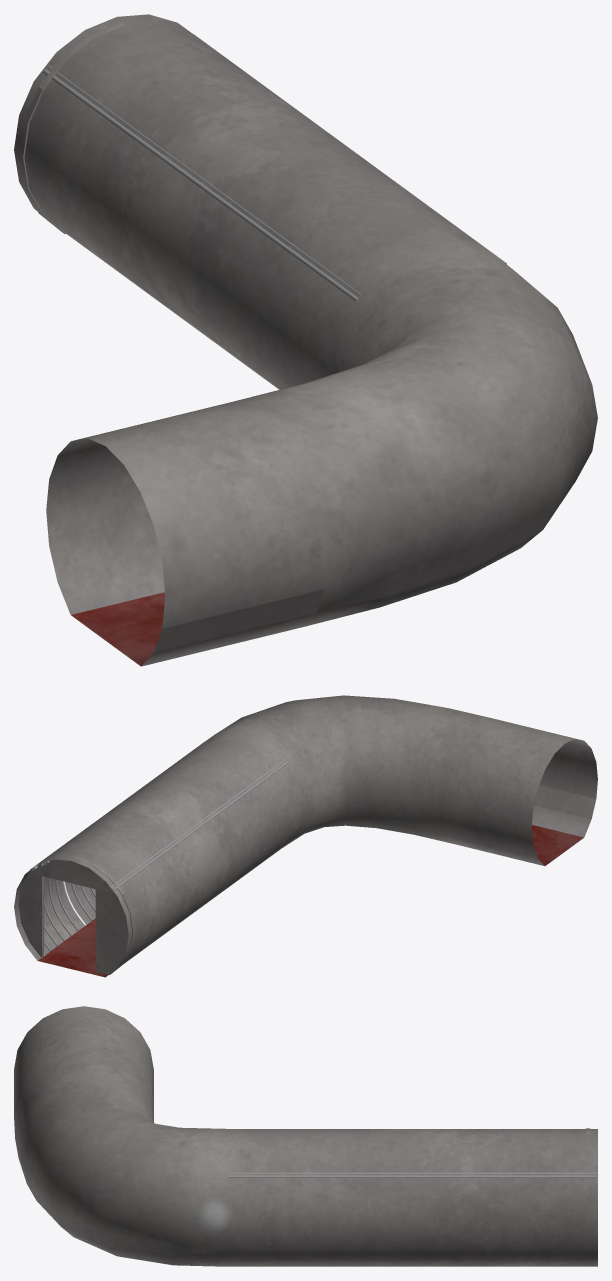
Rendered from corridor.fbx.
The picture shows the model from 3 angles, top to bottom: view 1: azimuth 30°, elevation 25°; view 2: azimuth 150°, elevation 25°; view 3: azimuth 270°, elevation 25°; orthographic projection. The views are drawn at different scales.
Visible parts, largest first — view 1: __pCylinder66, __pCylinder81; view 2: __pCylinder66, __polySurface13, __polySurface11, __polySurface6, __pCylinder81; view 3: __pCylinder66, __pCylinder79, __pCylinder3.
Part boxes in pixels (x1,y1,x2,y2): __pCylinder66: (14,14,597,666); __pCylinder81: (43,65,361,301); __pCylinder66: (14,695,597,977); __polySurface13: (95,889,135,974); __polySurface11: (18,863,44,957); __polySurface6: (40,856,116,893); __pCylinder81: (96,759,288,891); __pCylinder66: (14,1006,597,1266); __pCylinder79: (228,1172,596,1177); __pCylinder3: (228,1172,596,1173).
Bounding box in the file's own units: 1162 × 392 × 1812.
